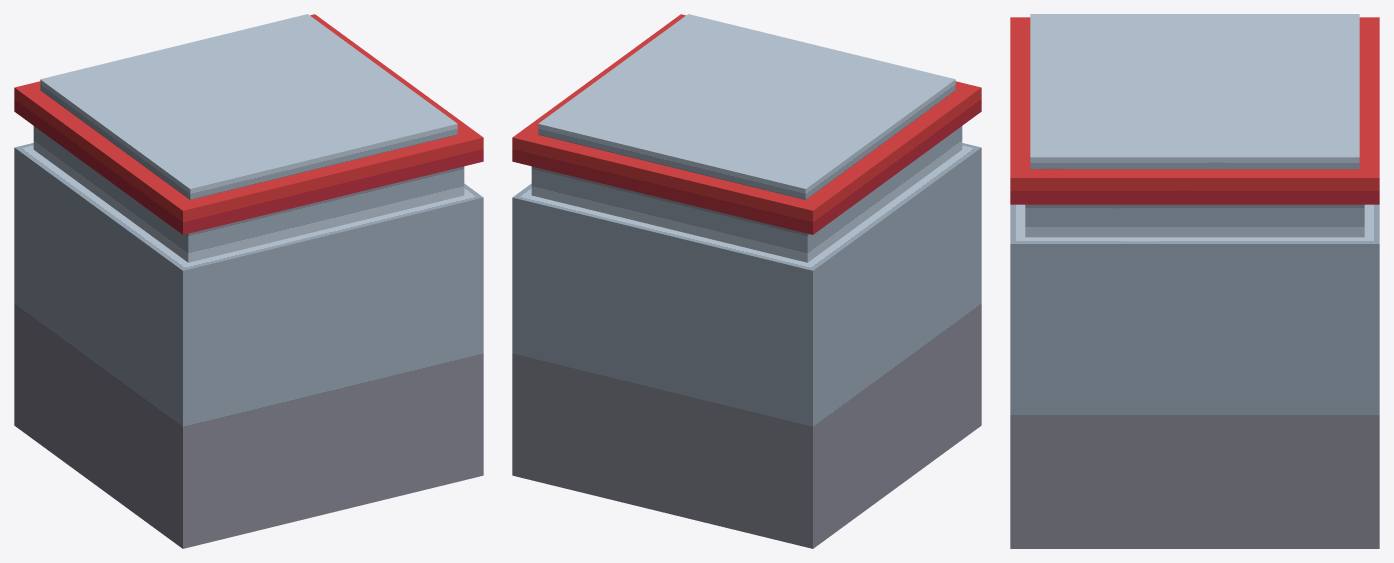
Rendered from pilar_esquinas.fbx.
3 renders of one model, left to right at view 1: azimuth 30°, elevation 25°; view 2: azimuth 150°, elevation 25°; view 3: azimuth 270°, elevation 25°, orthographic. The views are drawn at different scales.
Visible parts, largest first — view 1: pilar_esquinas; view 2: pilar_esquinas; view 3: pilar_esquinas.
Part boxes in pixels (x1,y1,x2,y2): pilar_esquinas: (14,14,483,548); pilar_esquinas: (512,14,981,548); pilar_esquinas: (1010,14,1379,548).
Bounding box in the file's own units: 372 × 413 × 361.
